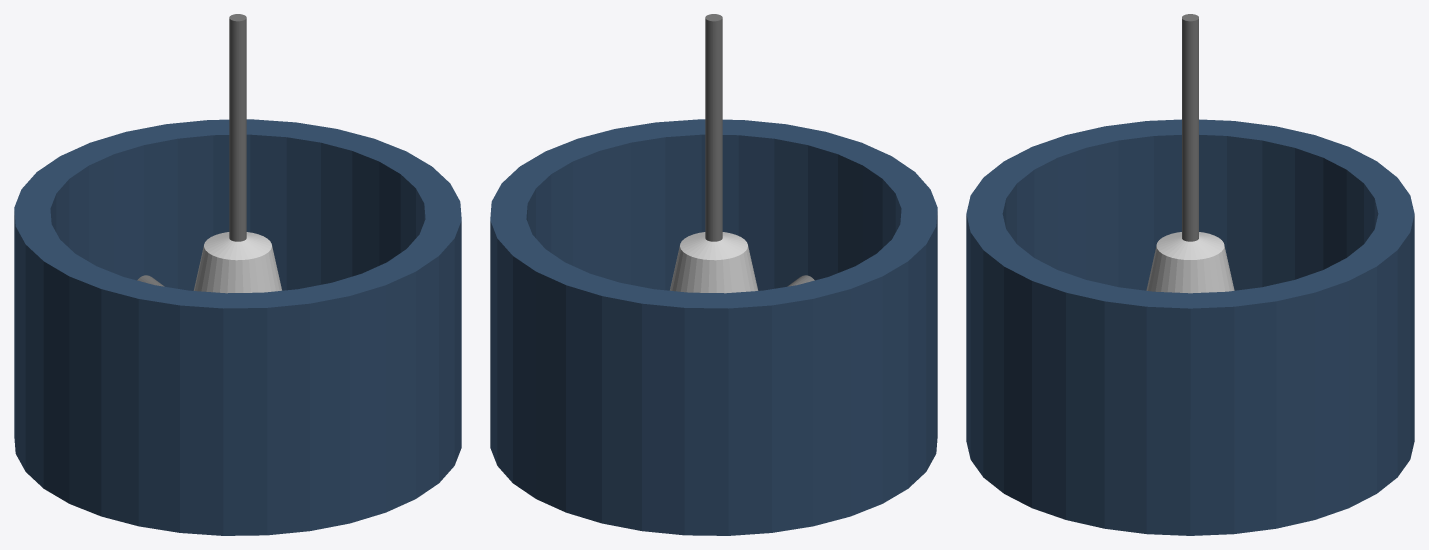
File: roundlamp.fbx
3 renders of one model, left to right at view 1: azimuth 30°, elevation 25°; view 2: azimuth 150°, elevation 25°; view 3: azimuth 270°, elevation 25°, orthographic.
Parts seen in each view (by area): view 1: Cylinder.014; view 2: Cylinder.014; view 3: Cylinder.014.
Part boxes in pixels (x1,y1,x2,y2): Cylinder.014: [14, 14, 461, 535]; Cylinder.014: [490, 14, 937, 535]; Cylinder.014: [966, 14, 1414, 535].
Size of the model in its own units: 3387 by 3532 by 3387.
